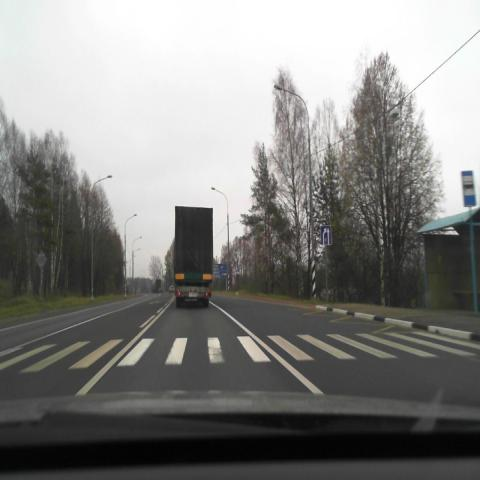5_15_5: (320, 224, 332, 244)
